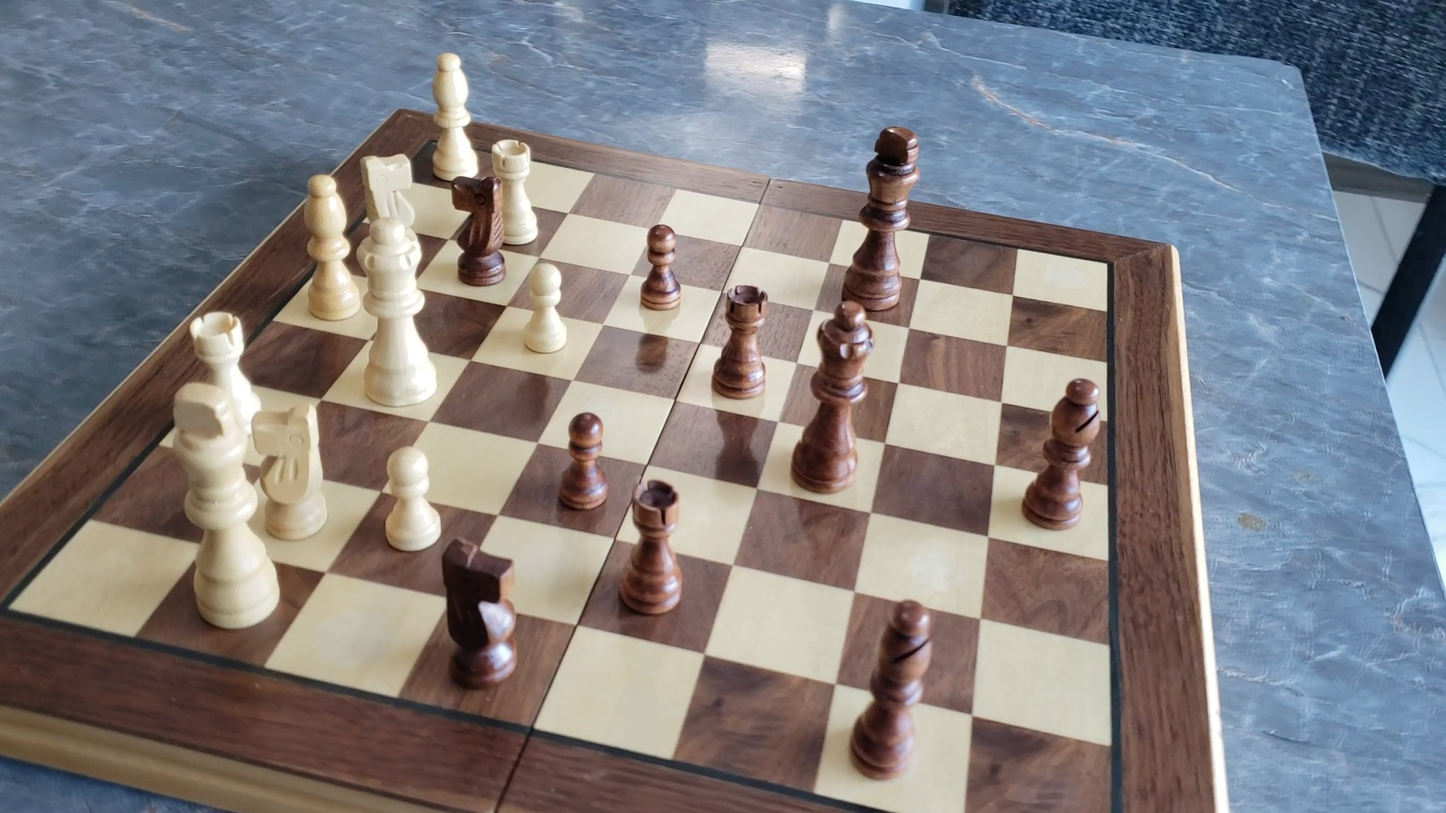black-bishop: (849, 596, 937, 780), (1021, 375, 1104, 531)
black-king: (846, 119, 922, 310)
black-knight: (438, 535, 522, 691), (450, 172, 509, 287)
black-pawn: (557, 409, 610, 513), (639, 220, 683, 313)
black-queen: (790, 299, 878, 495)
black-rook: (619, 479, 686, 617), (711, 282, 770, 400)
white-bishop: (299, 169, 361, 325), (424, 41, 484, 180)
white-king: (160, 380, 289, 636)
white-knight: (242, 400, 336, 545), (356, 150, 425, 272)
white-pawn: (377, 442, 447, 557), (517, 257, 576, 360)
white-queen: (354, 215, 442, 412)
white-rook: (185, 307, 266, 443), (487, 136, 542, 248)
